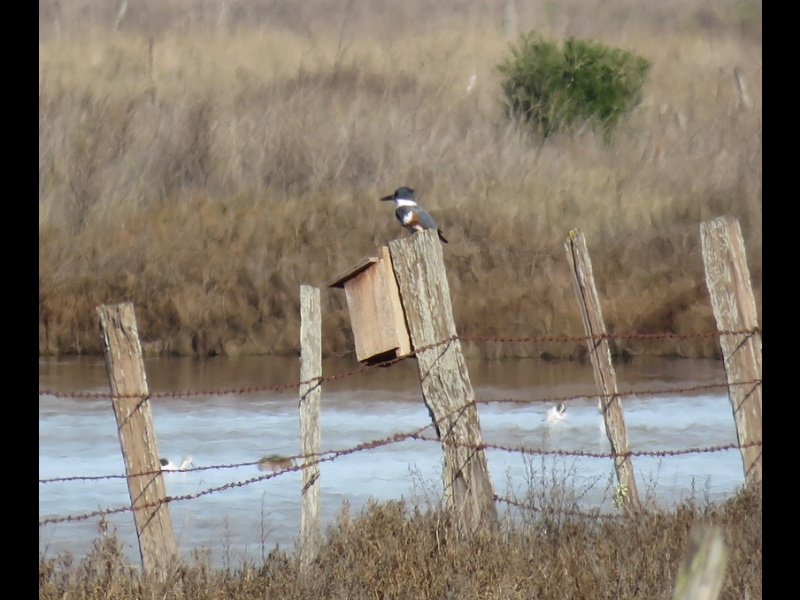kingfisher: (378, 186, 449, 245)
